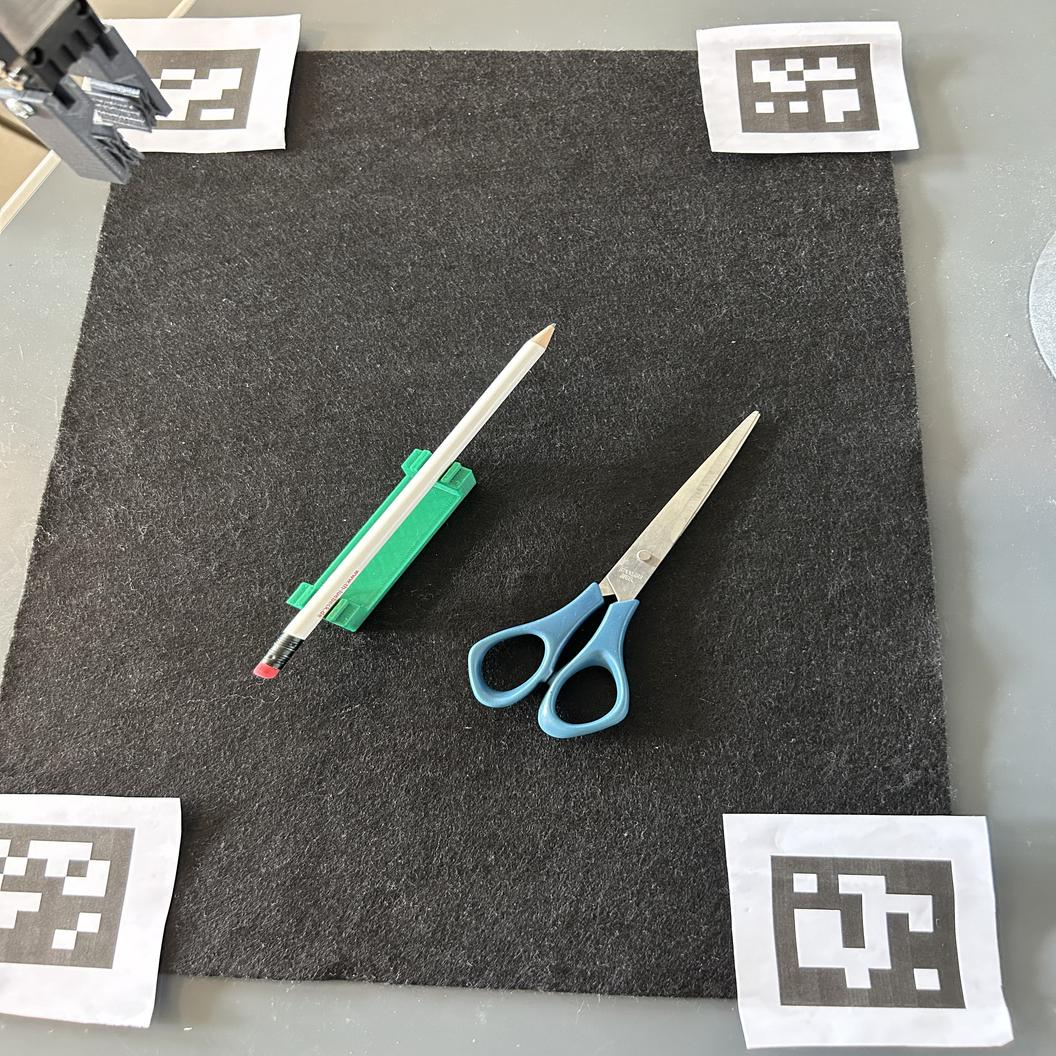X: (251, 322, 559, 682)
holder: (285, 447, 478, 633)
pencil: (251, 321, 558, 681)
